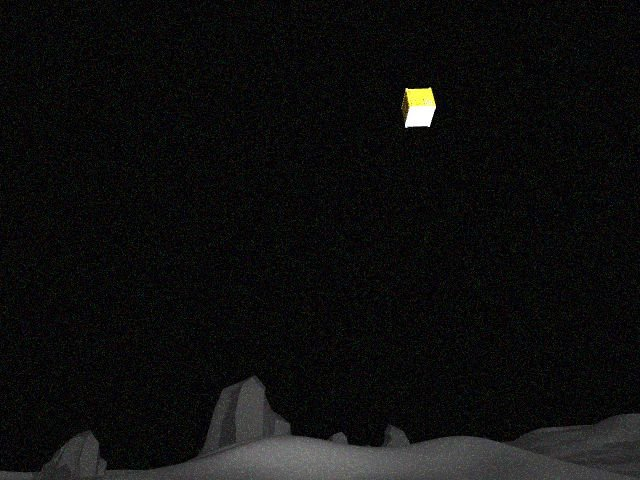cubesat: (396, 83, 439, 130)
